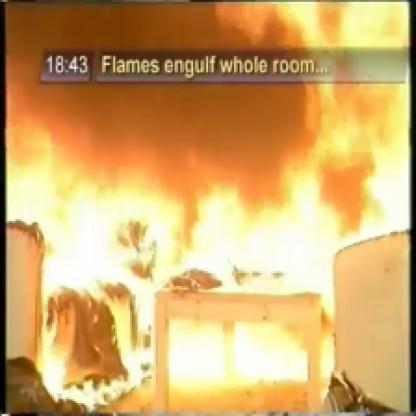fire: (3, 82, 199, 307), (193, 6, 416, 174), (145, 160, 416, 297), (29, 315, 345, 416)
